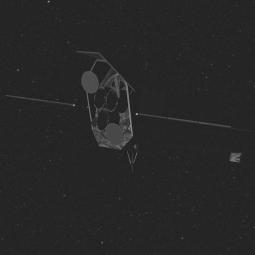xmm_newton: (68, 57, 162, 178)
